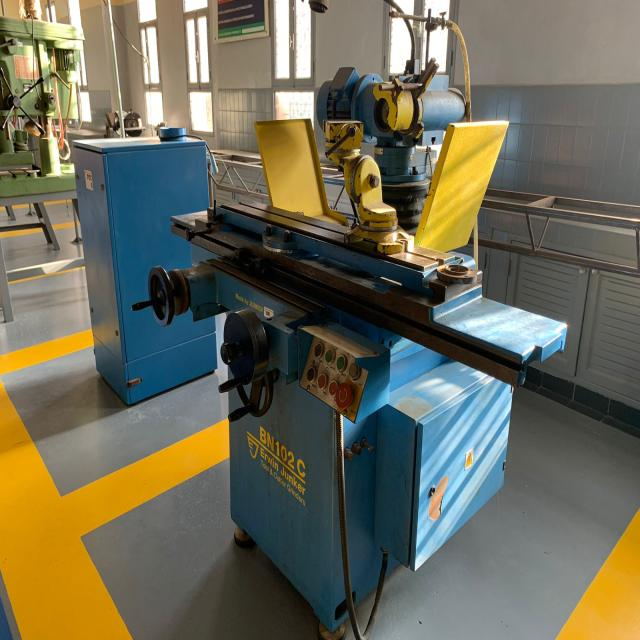fraiseuse: (149, 62, 525, 640)
